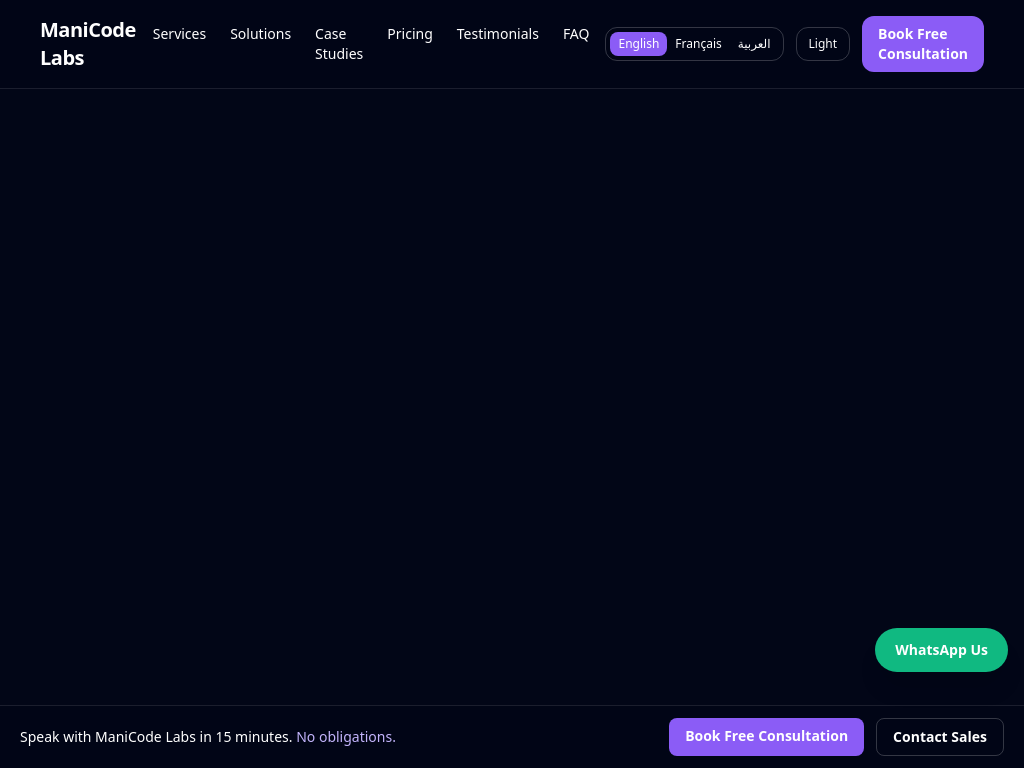
ManiCodeLabsWebsite › toggles between dark and light mode
The image size is (1024, 768).
Click the button with aria-label "Switch to light mode": x=823, y=44 [796, 27, 850, 61]
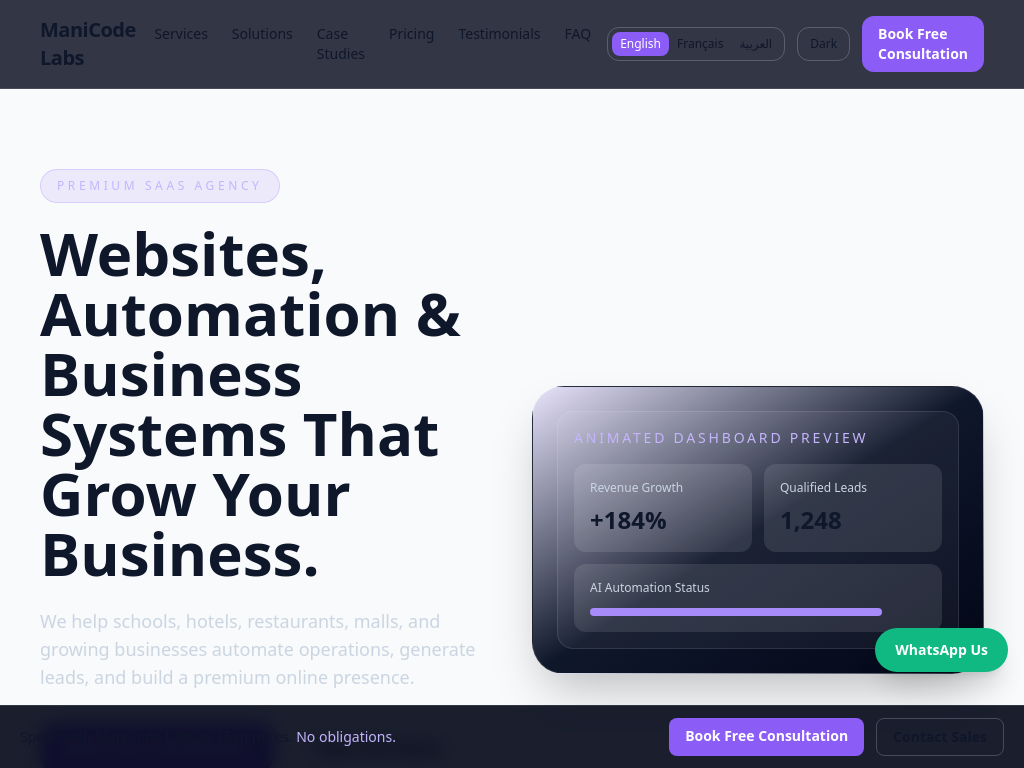
expect the button named "Switch to light mode" reads "Dark": met, box [797, 27, 850, 61]
